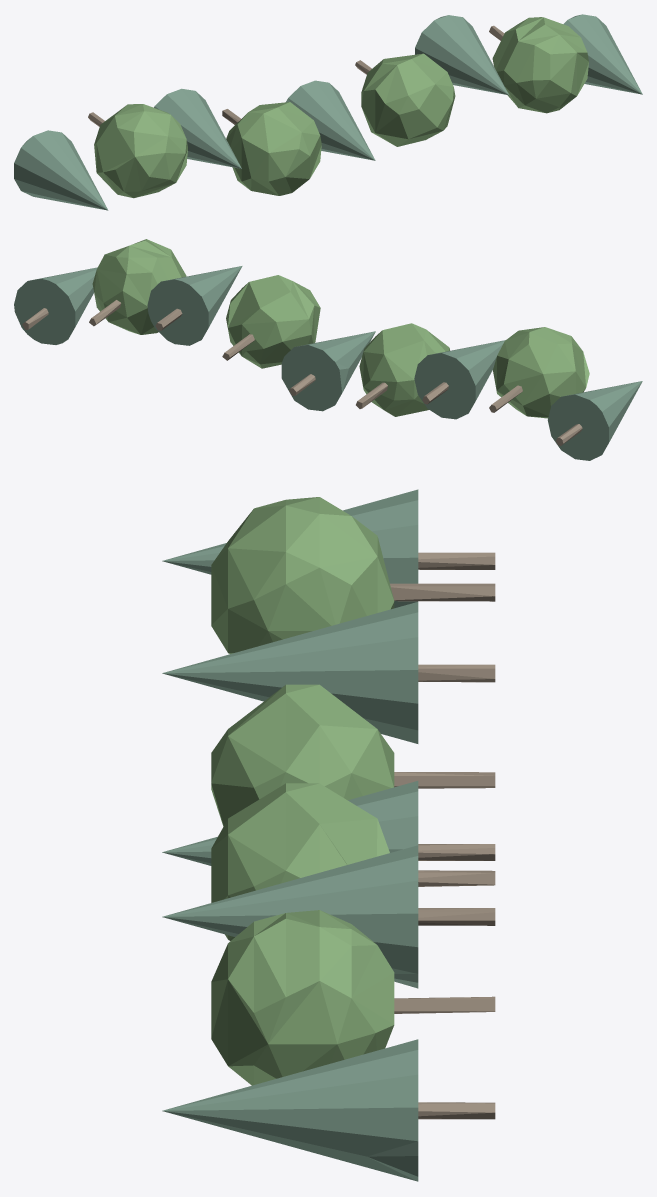
The model's file is r-102-saratoga-mixed-treeline.lod1.glb.
3 renders of one model, top to bottom at view 1: azimuth 30°, elevation 25°; view 2: azimuth 150°, elevation 25°; view 3: azimuth 270°, elevation 25°, orthographic. The views are drawn at different scales.
Parts seen in each view (by area): view 1: hardwoods, pines, trunks; view 2: hardwoods, pines, trunks; view 3: hardwoods, pines, trunks.
Part boxes in pixels (x1,y1,x2,y2): hardwoods: [94, 17, 588, 198]; pines: [14, 14, 642, 210]; trunks: [88, 25, 504, 126]; hardwoods: [92, 239, 589, 418]; pines: [14, 266, 642, 460]; trunks: [22, 300, 582, 445]; hardwoods: [211, 497, 394, 1085]; pines: [162, 489, 418, 1181]; trunks: [390, 552, 495, 1119].
Bounding box in the file's own units: 53518 × 9960 × 12997.
